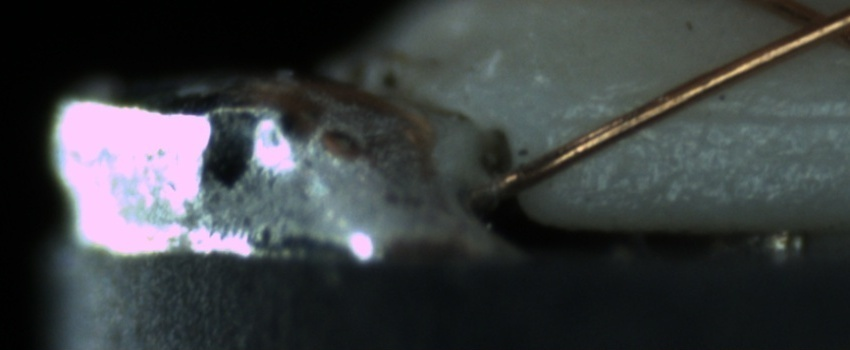CL: (768, 1, 849, 56)
DL: (572, 82, 846, 148)
